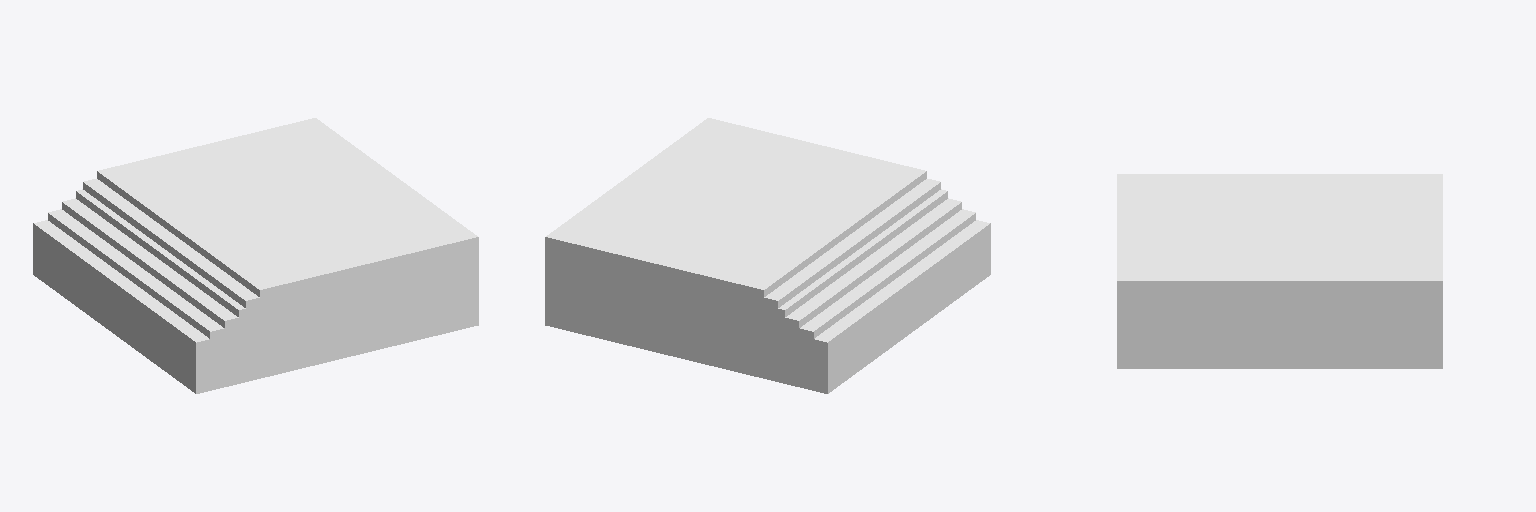
Rendered from grass_slope.obj.
3 renders of one model, left to right at view 1: azimuth 30°, elevation 25°; view 2: azimuth 150°, elevation 25°; view 3: azimuth 270°, elevation 25°, orthographic.
Parts seen in each view (by area): view 1: object 1; view 2: object 1; view 3: object 1.
Part boxes in pixels (x1,y1,x2,y2): object 1: (33,118,478,393); object 1: (545,118,990,393); object 1: (1117,174,1442,368).
Bounding box in the file's own units: 4 × 1.2 × 4.